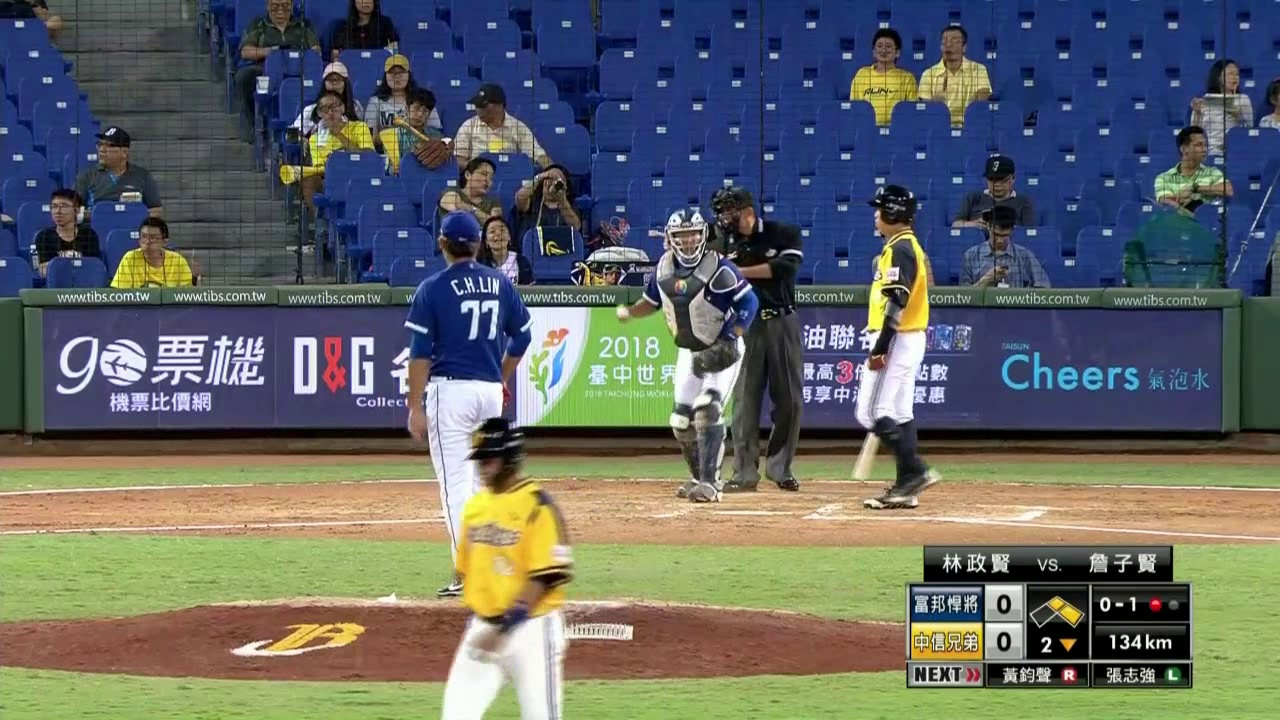ball: (614, 302, 632, 320)
base: (1029, 591, 1084, 628)
bat: (853, 392, 887, 486)
out: (1143, 583, 1182, 621)
score1: (986, 585, 1020, 619)
score2: (986, 623, 1022, 659)
session: (1029, 630, 1082, 658)
speed: (1093, 628, 1184, 657)
strikeball: (1093, 585, 1141, 622)
